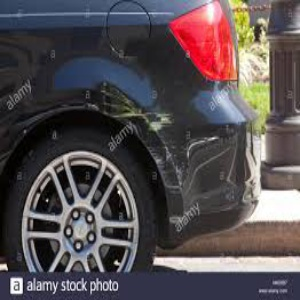bumper_scratch: (171, 143, 259, 203)
